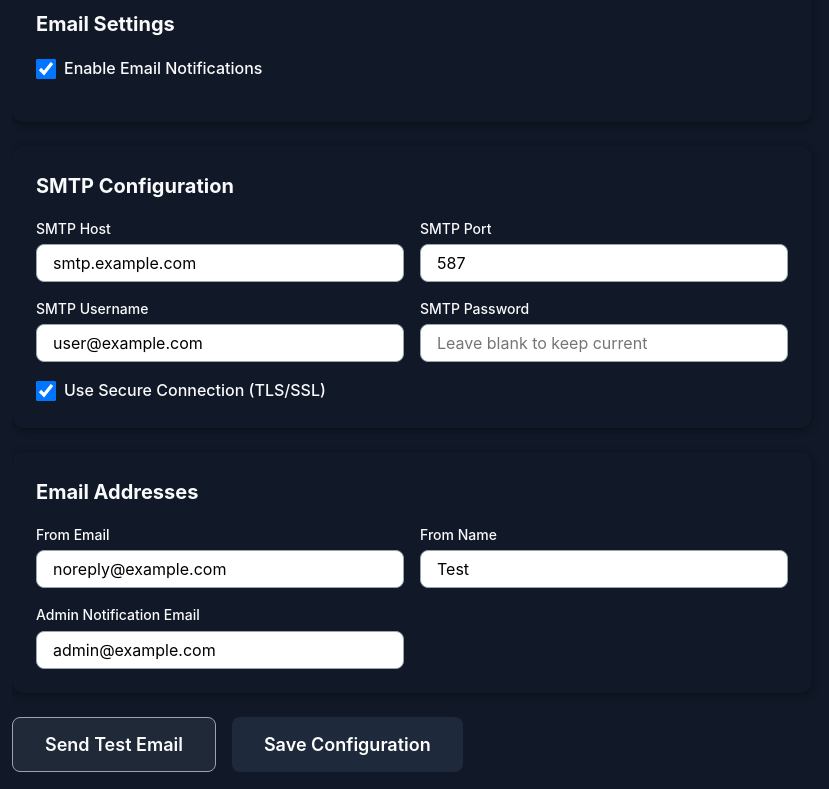
Test: EmailConfigForm Coverage › should handle test email error
The image size is (829, 789).
Click the button "Send Test Email".
click(114, 744)  # box [12, 717, 216, 772]
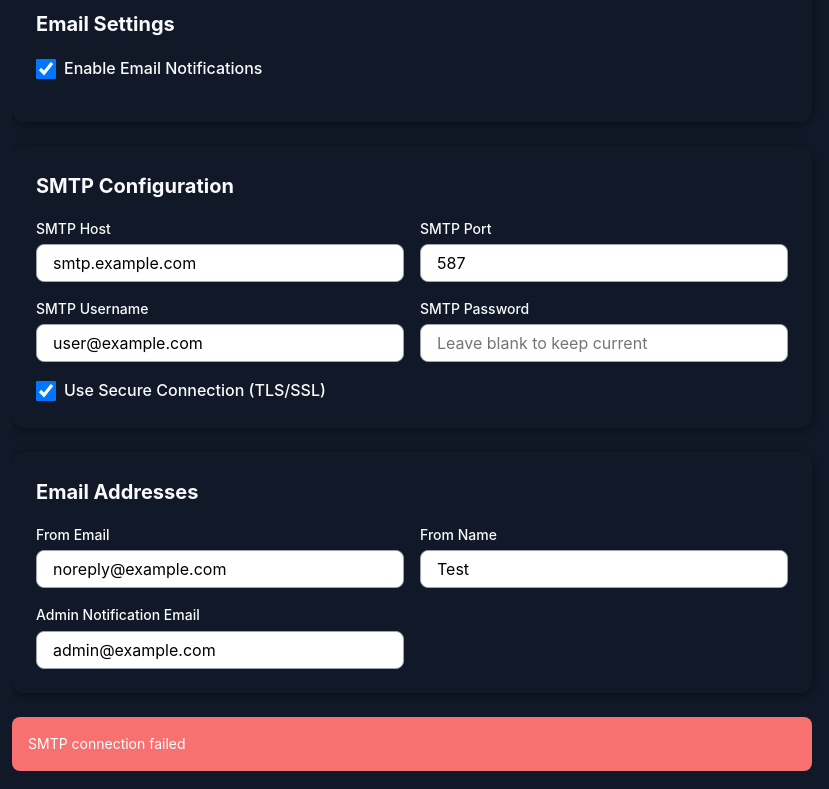
expect the text "SMTP connection failed" is shown: met, box [12, 717, 812, 771]
